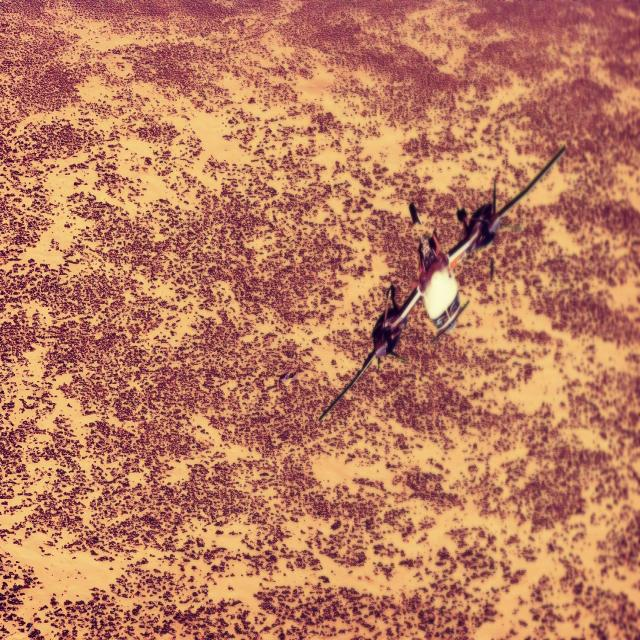airplane: (317, 141, 566, 423)
